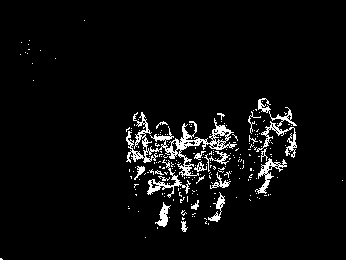person: (204, 112, 245, 222), (178, 121, 207, 233), (150, 120, 178, 227), (267, 108, 297, 193), (247, 95, 271, 181), (127, 110, 150, 195)
